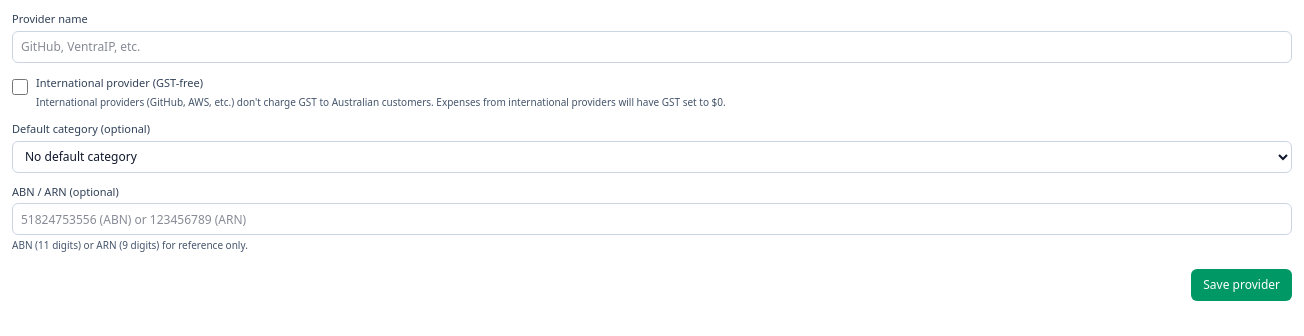
Test: ProviderForm › validates ABN format (11 digits)
Type "Test Provider" into the field labelled "Provider name" at (652, 47), box [12,31,1292,63]
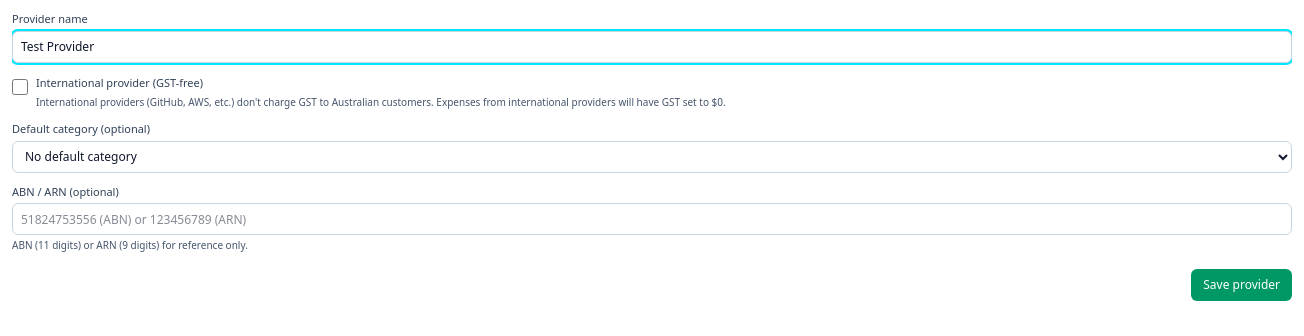
Type "12345" into the field labelled "ABN / ARN (optional)" at (652, 220), box [12,204,1292,236]
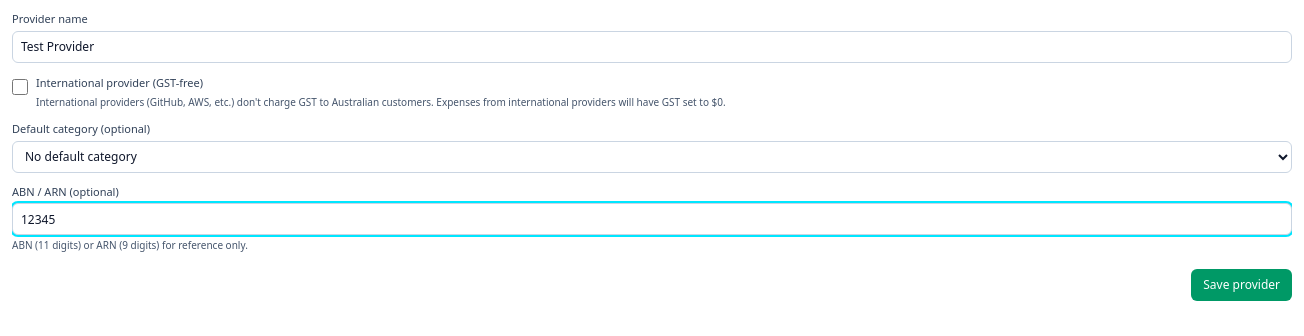
Click the button "Save provider" at (1242, 285), box [1191,269,1292,301]
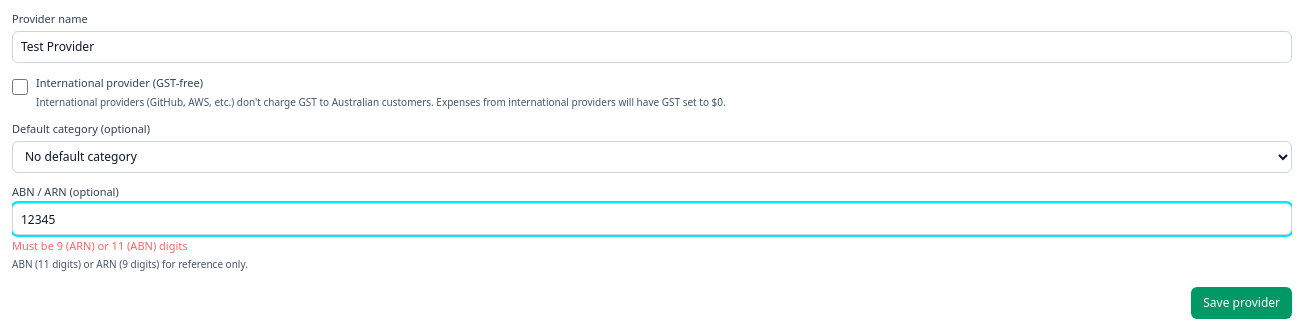
expect the text "Must be 9 (ARN) or 11 (ABN) digits" is shown: met, box [12,238,188,254]
